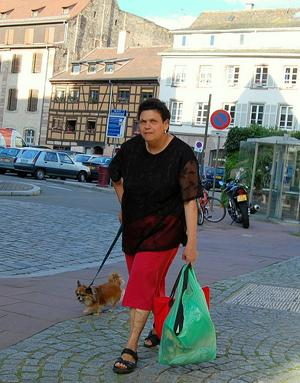person: (108, 96, 201, 369)
